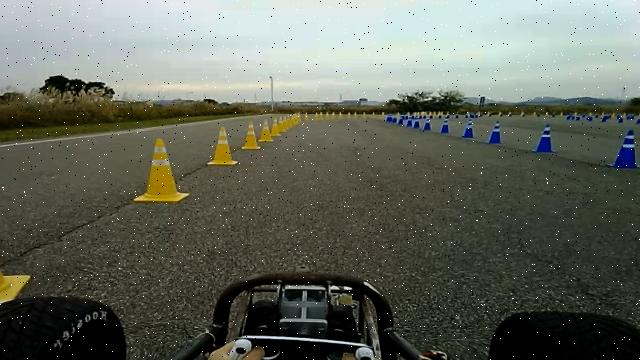blue cone: (606, 128, 640, 168), (532, 123, 557, 153), (486, 120, 504, 144), (463, 120, 475, 138), (440, 118, 450, 133), (423, 119, 432, 131), (412, 115, 420, 128), (406, 115, 414, 127)
yellow cone: (134, 138, 190, 202), (0, 244, 31, 308), (207, 126, 239, 165), (241, 121, 261, 149), (258, 119, 274, 142), (270, 119, 282, 136), (281, 116, 290, 131), (277, 118, 286, 132), (292, 112, 301, 125)
